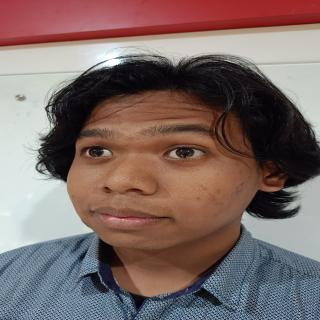Takut: (65, 79, 275, 257)
